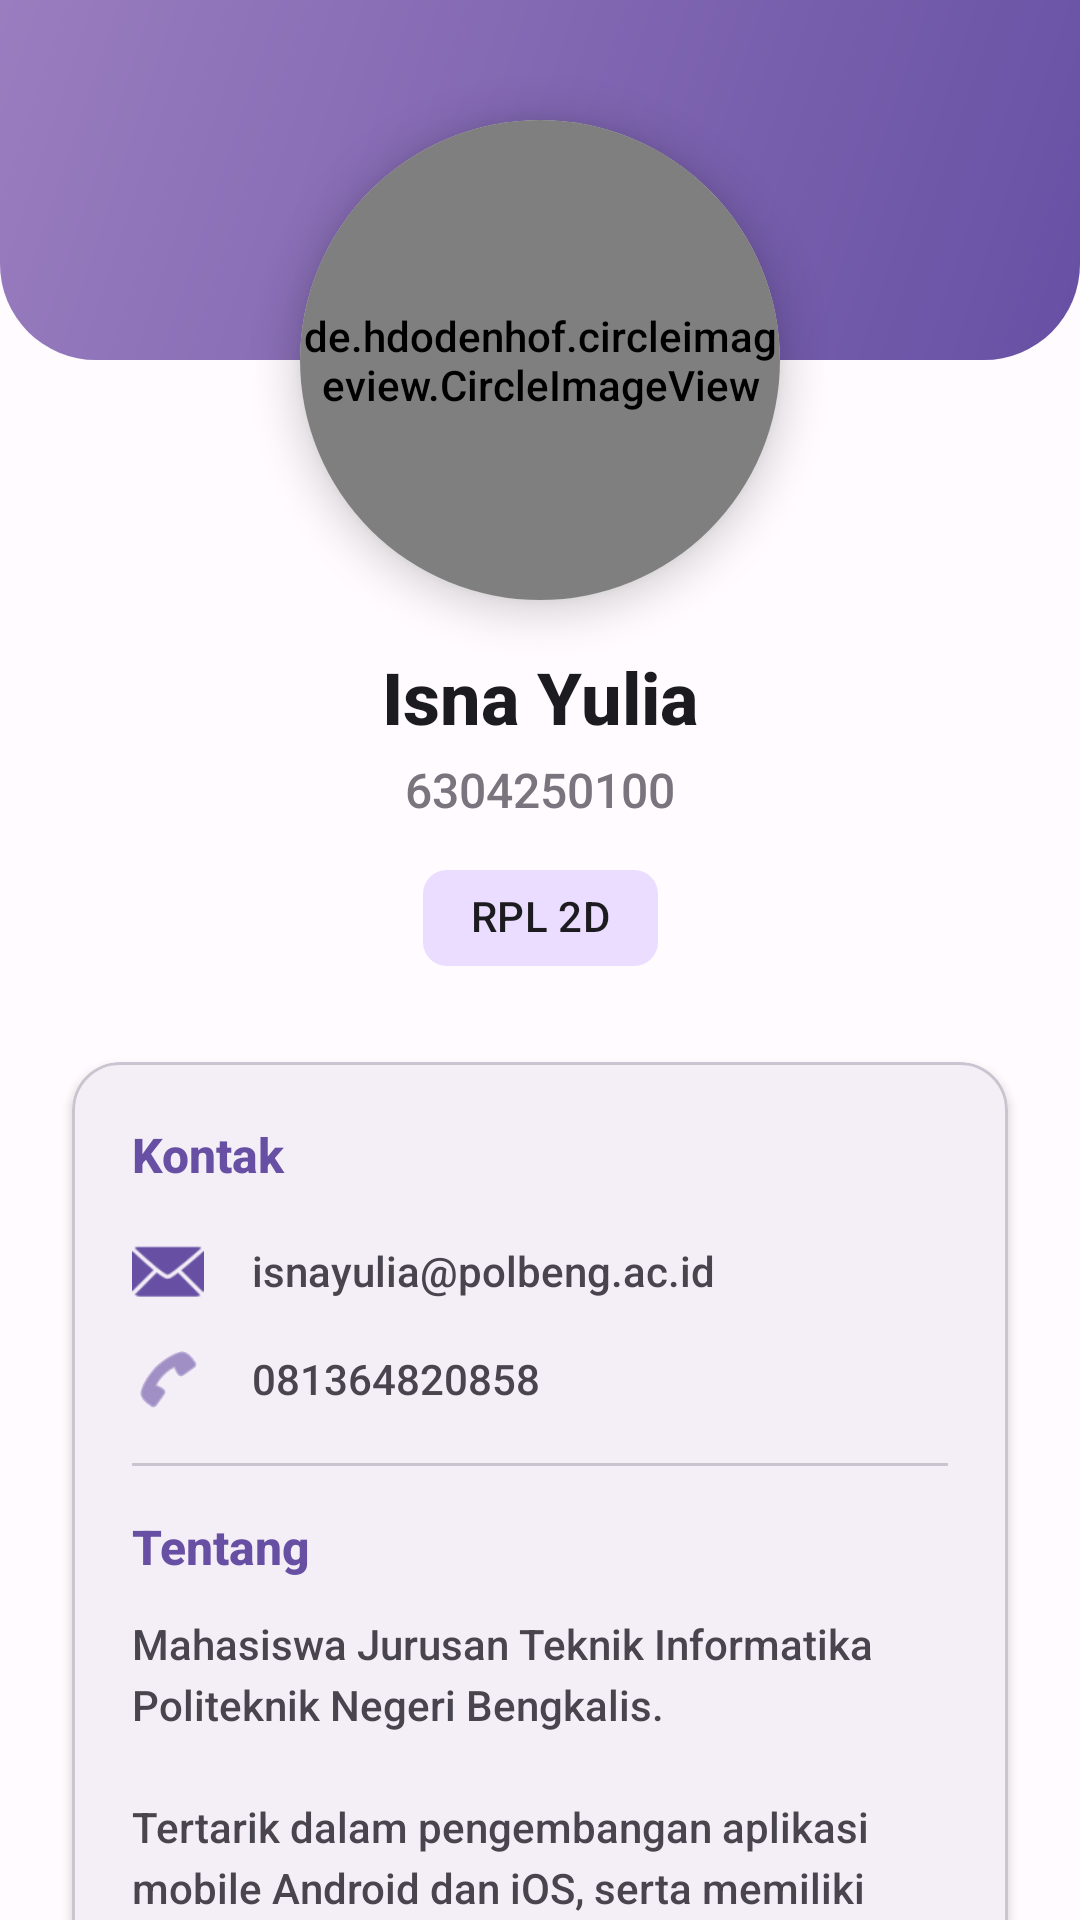

Icons on this 1080px x 1920px Android screen, each with the point to tap as [x,y]:
call: [168,1379]
email: [168,1271]
